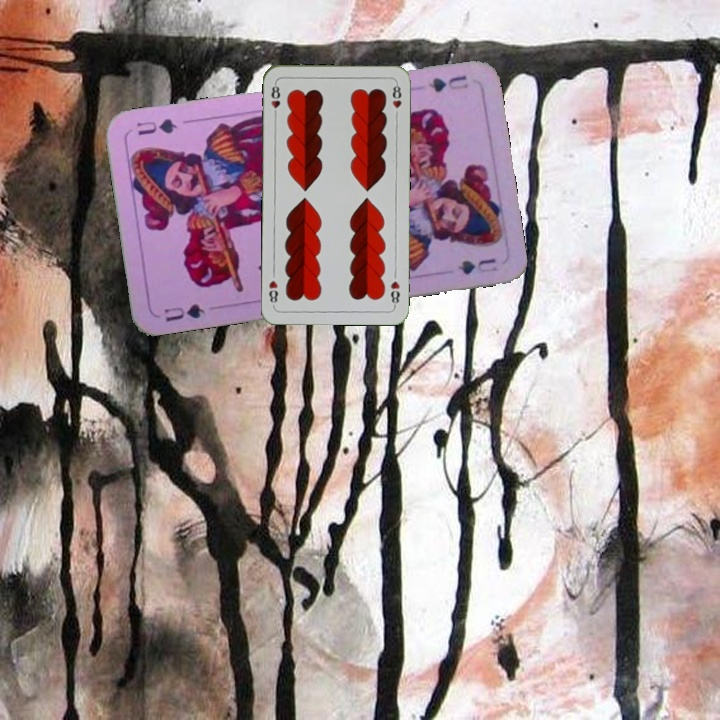GU: (160, 299, 207, 325), (424, 71, 471, 95)
H8: (267, 79, 282, 120), (386, 277, 402, 309)
